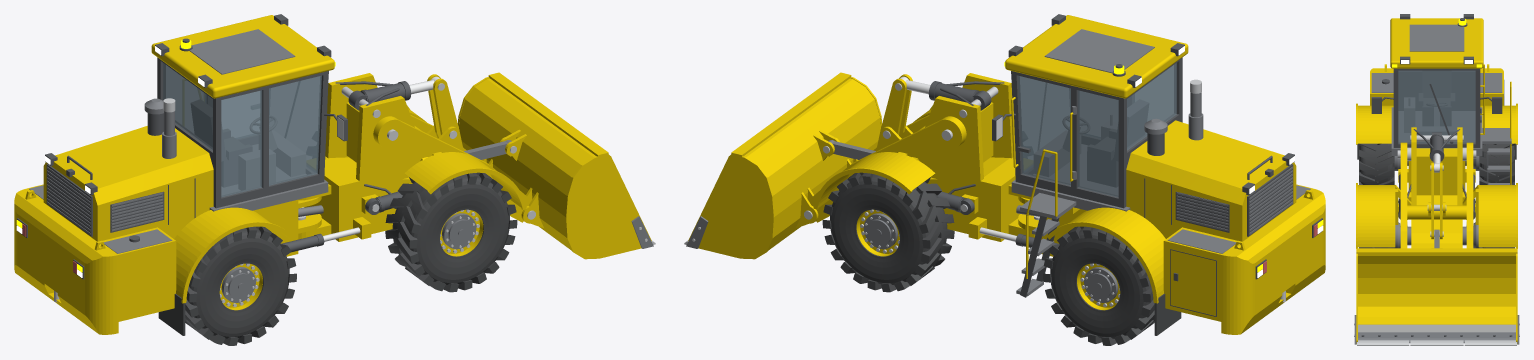
Rendered from wheel-loader-3yd.glb.
3 views of the same model, side by side, from view 1: azimuth 30°, elevation 25°; view 2: azimuth 150°, elevation 25°; view 3: azimuth 270°, elevation 25° (orthographic). The views are drawn at different scales.
Parts seen in each view (by area): view 1: rim_front_L, tyre_front_L, hub_front_L, steering_cylinder, cab_glass, wheel_nuts_front_L, steering_cylinder_rod; view 2: rim_front_L, tyre_front_L, steering_cylinder, hub_front_L, cab_glass, wheel_nuts_front_L, steering_cylinder_rod; view 3: rim_front_L, hub_front_L, steering_cylinder, cab_glass, tyre_front_L, wheel_nuts_front_L, bucket_floor_wear.
Part boxes in pixels (box(x1,y1,x2,y2)): rim_front_L: box(14, 15, 651, 334); tyre_front_L: box(158, 172, 517, 345); hub_front_L: box(29, 29, 653, 302); steering_cylinder: box(17, 14, 411, 279); cab_glass: box(163, 63, 321, 197); wheel_nuts_front_L: box(54, 83, 655, 307); steering_cylinder_rod: box(323, 76, 439, 241); rim_front_L: box(688, 15, 1325, 334); tyre_front_L: box(822, 172, 1181, 345); steering_cylinder: box(928, 14, 1322, 316); hub_front_L: box(686, 29, 1310, 302); cab_glass: box(1018, 63, 1176, 197); wheel_nuts_front_L: box(684, 79, 1285, 307); steering_cylinder_rod: box(900, 76, 1016, 241); rim_front_L: box(1356, 18, 1517, 343); hub_front_L: box(1354, 24, 1519, 344); steering_cylinder: box(1361, 14, 1512, 336); cab_glass: box(1398, 70, 1475, 143); tyre_front_L: box(1357, 143, 1516, 248); wheel_nuts_front_L: box(1354, 135, 1519, 345); bucket_floor_wear: box(1358, 324, 1515, 332).
Size of the model in its own units: 8.27 by 3.57 by 2.92.
